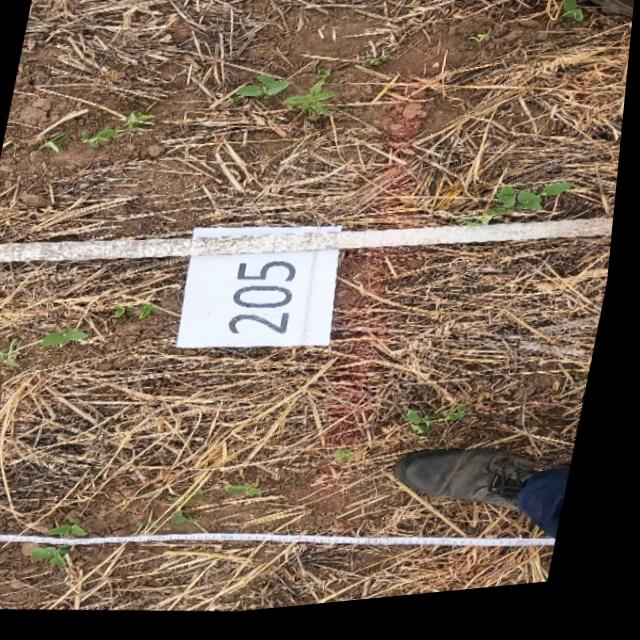caruru_weed: (286, 76, 339, 124)
soy_plant: (84, 113, 156, 149), (500, 193, 574, 220), (415, 413, 479, 443), (238, 79, 292, 104), (46, 328, 96, 348), (42, 548, 81, 568), (0, 338, 26, 367), (121, 304, 165, 320), (60, 520, 97, 538), (561, 7, 586, 32), (180, 513, 207, 527), (343, 455, 366, 470), (235, 489, 259, 499), (206, 495, 214, 506), (341, 474, 347, 484)
